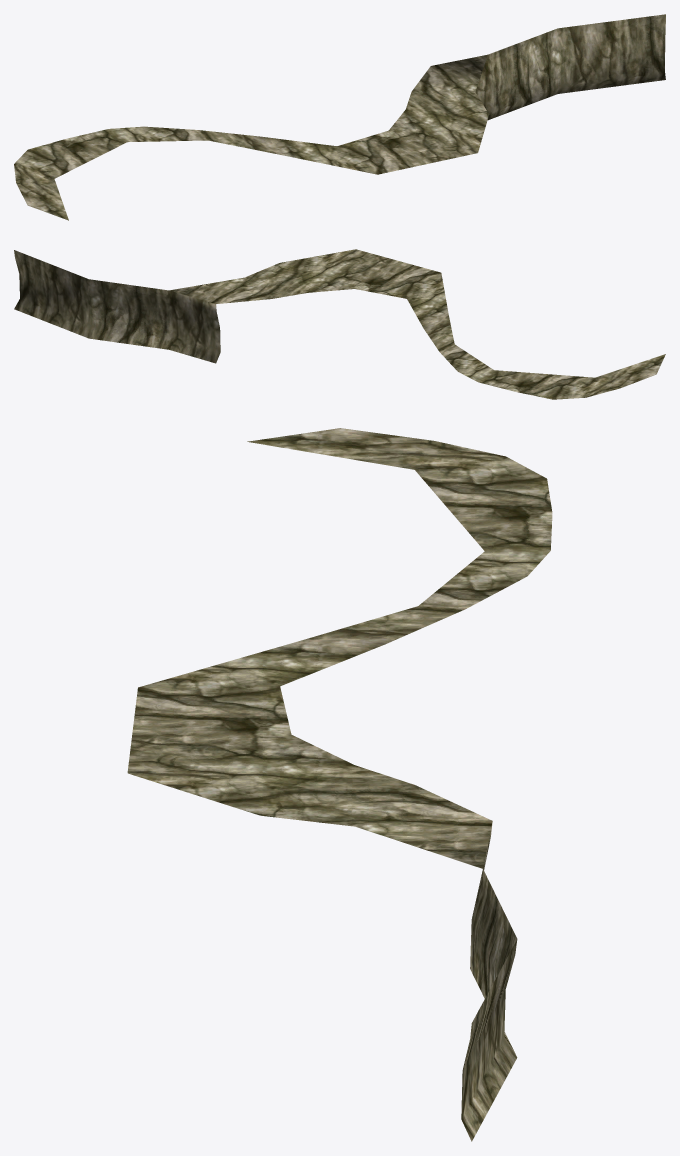
The model's file is CB_NEWPLAYSURFACE_CB_PLAYSURFACE150.fbx.
3 renders of one model, top to bottom at view 1: azimuth 30°, elevation 25°; view 2: azimuth 150°, elevation 25°; view 3: azimuth 270°, elevation 25°, orthographic. The views are drawn at different scales.
Parts seen in each view (by area): view 1: CB_NEWPLAYSURFACE_CB_PLAYSURFACE150; view 2: CB_NEWPLAYSURFACE_CB_PLAYSURFACE150; view 3: CB_NEWPLAYSURFACE_CB_PLAYSURFACE150.
Boxes of the visible parts, box(x1,y1,x2,y2) form: CB_NEWPLAYSURFACE_CB_PLAYSURFACE150: box(14, 14, 665, 220); CB_NEWPLAYSURFACE_CB_PLAYSURFACE150: box(14, 249, 665, 399); CB_NEWPLAYSURFACE_CB_PLAYSURFACE150: box(127, 428, 552, 1141).
Size of the model in its own units: 429813 by 40000 by 129729.
Materials: 2 (2 with a texture image).
